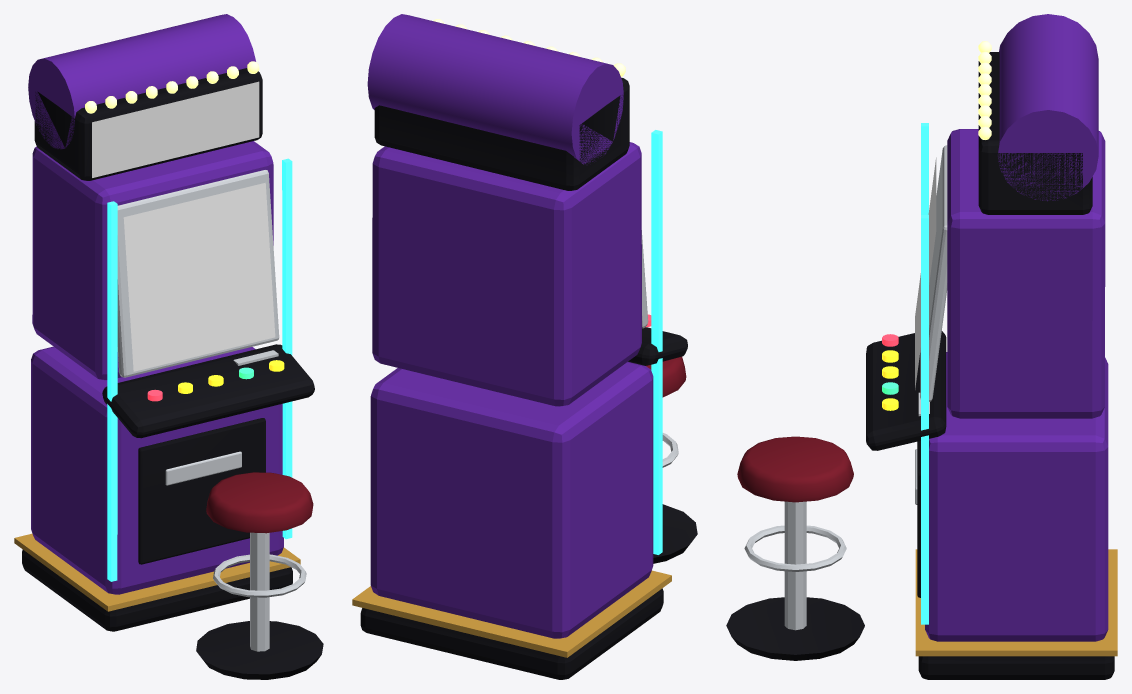
The model's file is slot-cabinet-penny.glb.
3 views of the same model, side by side, from view 1: azimuth 30°, elevation 25°; view 2: azimuth 150°, elevation 25°; view 3: azimuth 270°, elevation 25° (orthographic). The views are drawn at different scales.
Parts seen in each view (by area): view 1: slot-cabinet-penny_lod0; view 2: slot-cabinet-penny_lod0; view 3: slot-cabinet-penny_lod0.
Part boxes in pixels (bbox=[...]): slot-cabinet-penny_lod0: bbox=[14, 14, 323, 679]; slot-cabinet-penny_lod0: bbox=[352, 14, 697, 679]; slot-cabinet-penny_lod0: bbox=[726, 14, 1117, 679].
Size of what is drawn, in the model's own units: 0.7599 by 2 by 1.24.
